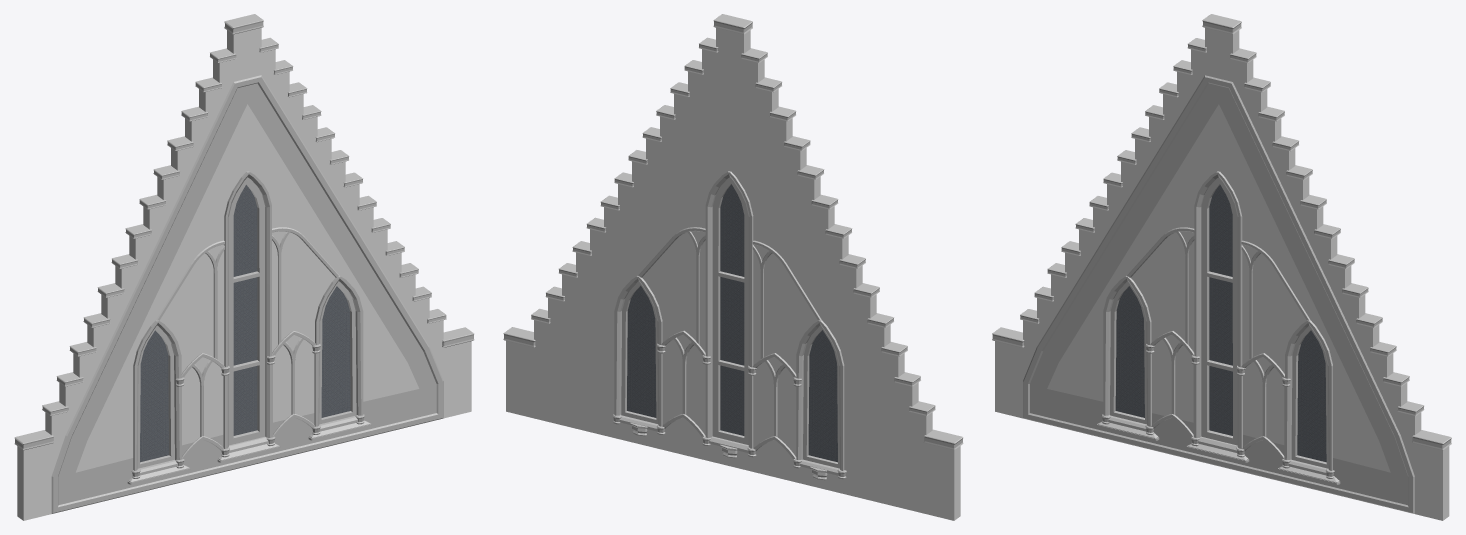
Rendered from SM_Roof_EndPiece_02_Window.fbx.
3 views of the same model, side by side, from view 1: azimuth 30°, elevation 25°; view 2: azimuth 150°, elevation 25°; view 3: azimuth 330°, elevation 25° (orthographic).
Parts seen in each view (by area): view 1: SM_Roof_EndPiece_02_Window_LOD0; view 2: SM_Roof_EndPiece_02_Window_LOD0; view 3: SM_Roof_EndPiece_02_Window_LOD0.
Part boxes in pixels (bbox=[...]): SM_Roof_EndPiece_02_Window_LOD0: bbox=[14, 14, 474, 520]; SM_Roof_EndPiece_02_Window_LOD0: bbox=[503, 14, 963, 520]; SM_Roof_EndPiece_02_Window_LOD0: bbox=[992, 14, 1451, 520].
Bounding box in the file's own units: 4083 × 3830 × 194.
